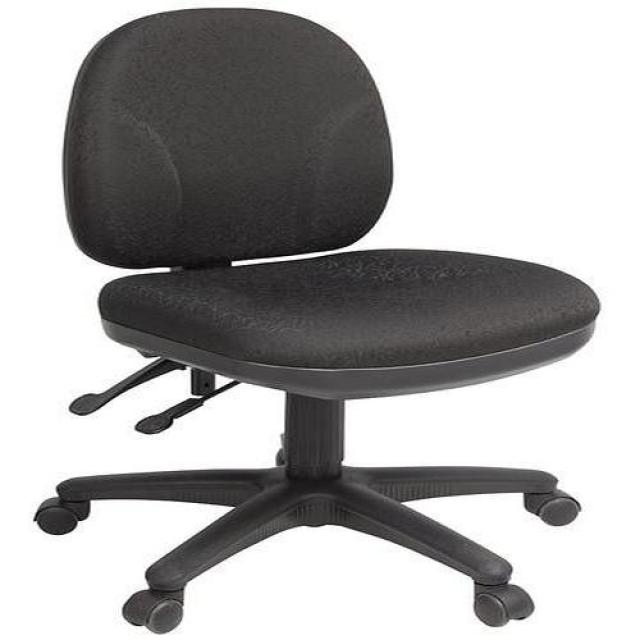swivelchair: (33, 8, 603, 637)
